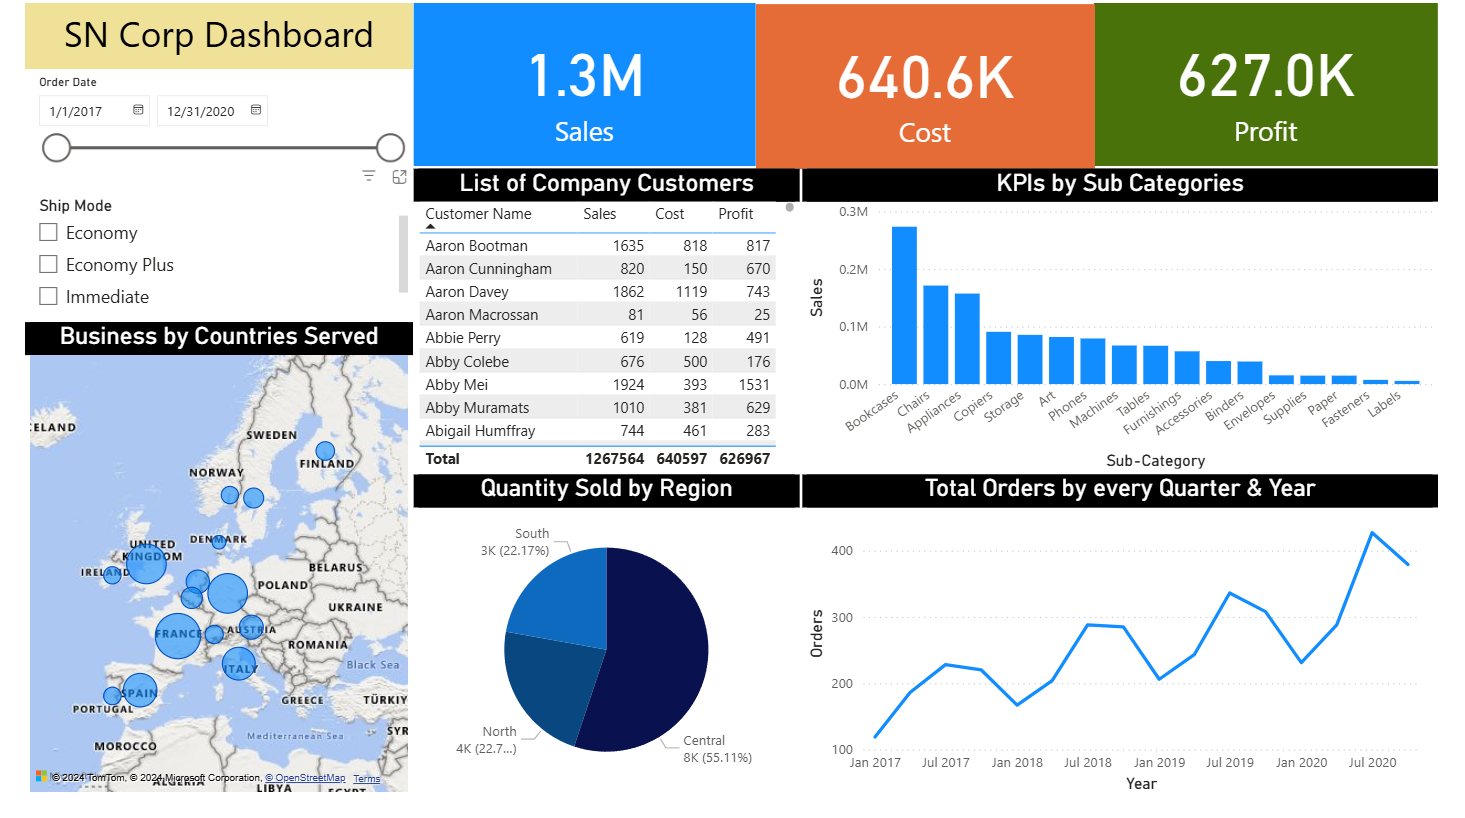

What the dashboard file says about the page in this screenshot:
{"tool":"powerbi","page":{"name":"Page 1","canvas":[1280,720],"ordinal":0},"visuals":[{"type":"card","fields":{"Values":["List of Orders.Sales"]},"box":[375.5,0,304.9,139.2],"z":0},{"type":"card","fields":{"Values":["List of Orders.Profit"]},"box":[998.4,0,281.4,139.2],"z":1000},{"type":"card","fields":{"Values":["List of Orders.Cost"]},"box":[665.6,0,332.8,139.2],"z":2000},{"type":"tableEx","title":"List Of Company Customers","fields":{"Values":["List of Orders.Customer Name","List of Orders.Sales","List of Orders.Cost","List of Orders.Profit"]},"box":[375.5,139.2,423.7,314.2],"z":3000},{"type":"clusteredColumnChart","title":"KPIs by Sub Categories","fields":{"Category":["List of Orders.Sub-Category"],"Y":["List of Orders.Sales"]},"box":[799.2,139.2,480.6,314.2],"z":4000},{"type":"lineChart","title":"Total Orders by Qtr & Shipping Mode","fields":{"Y":["List of Orders.Order ID"],"Category":["List of Orders.Order Date.Variation.Date Hierarchy.Year","List of Orders.Order Date.Variation.Date Hierarchy.Quarter"],"Series":["List of Orders.Ship Mode"]},"box":[779.4,453.4,500.4,266.6],"z":5000},{"type":"pieChart","title":"Quantity Sold by Region","fields":{"Y":["List of Orders.Quantity"],"Category":["List of Orders.Region"]},"box":[375.5,453.4,403.9,266.6],"z":6000},{"type":"map","title":"Business by Country Served","fields":{"Category":["List of Orders.Country"],"Size":["List of Orders.Sales"]},"box":[0,235.1,375.5,484.9],"z":7000},{"type":"textbox","box":[0,0,374.8,54.4],"z":8000},{"type":"slicer","fields":{"Values":["List of Orders.Ship Mode"]},"box":[0,170.1,374.8,64.9],"z":9000},{"type":"slicer","fields":{"Values":["List of Orders.Order Date"]},"box":[0,54.4,374.8,115.7],"z":10000}]}

Visuals, with their boxes in screenshot pixels (x1, y1, x2, y2), scaled from the page's 1280x720 canvas onto the 1465x818 screenshot:
card - List of Orders.Sales: locate(430, 0, 779, 158)
card - List of Orders.Profit: locate(1143, 0, 1464, 158)
card - List of Orders.Cost: locate(762, 0, 1143, 158)
"List Of Company Customers" tableEx: locate(430, 158, 915, 515)
"KPIs by Sub Categories" clusteredColumnChart: locate(915, 158, 1464, 515)
"Total Orders by Qtr & Shipping Mode" lineChart: locate(892, 515, 1464, 817)
"Quantity Sold by Region" pieChart: locate(430, 515, 892, 817)
"Business by Country Served" map: locate(0, 267, 430, 817)
textbox: locate(0, 0, 429, 62)
slicer - List of Orders.Ship Mode: locate(0, 193, 429, 267)
slicer - List of Orders.Order Date: locate(0, 62, 429, 193)
